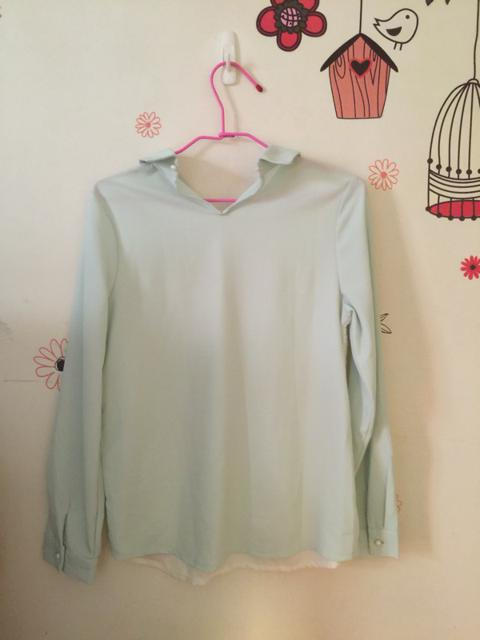Tops: (57, 142, 400, 565)
